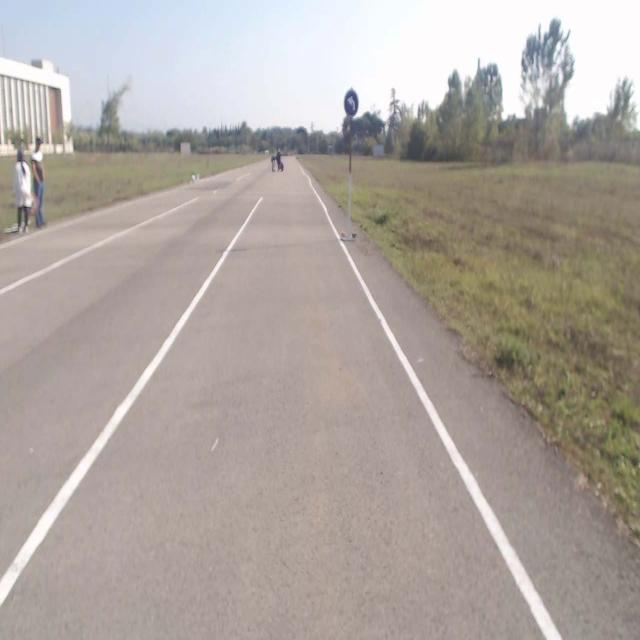sol: (344, 89, 358, 117)
